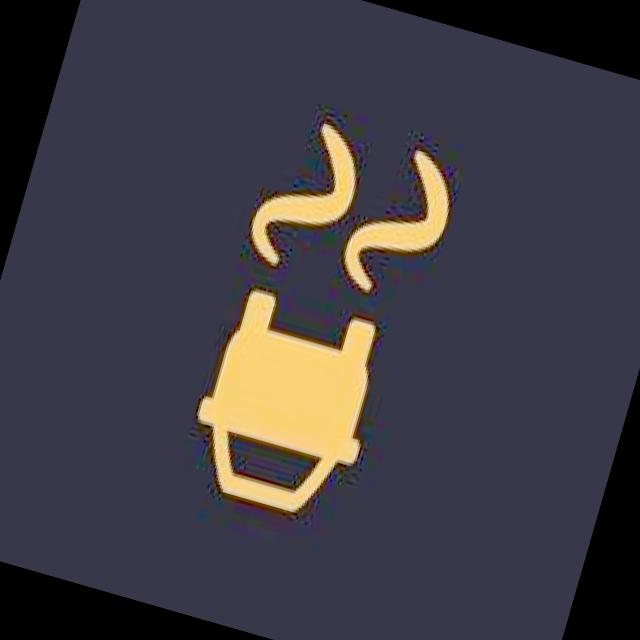kontrolka: (144, 103, 496, 566)
